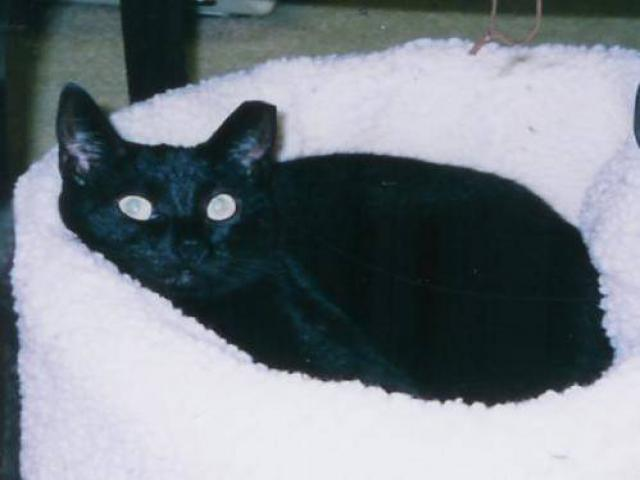cat: (53, 60, 618, 403)
